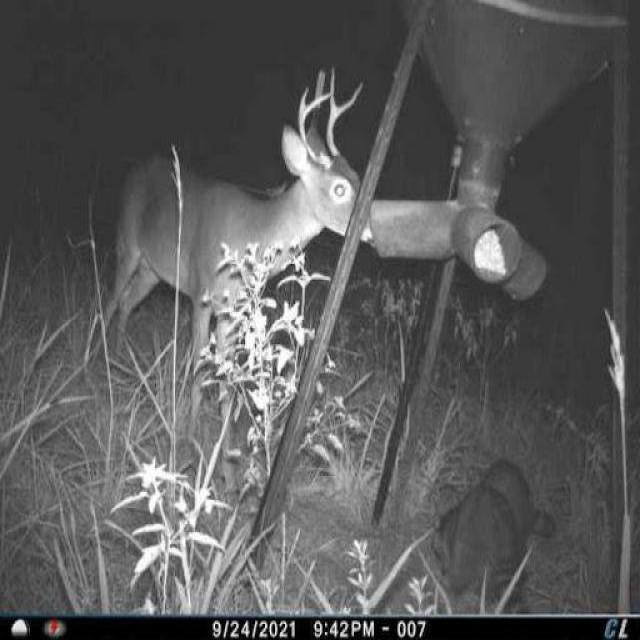deer: (96, 61, 369, 510)
